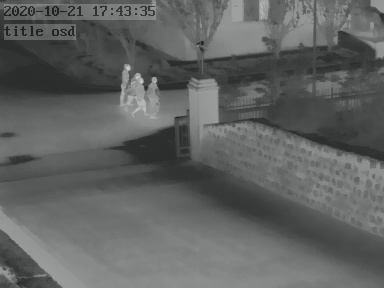person: (129, 74, 146, 114), (146, 76, 161, 116), (118, 63, 131, 106)
